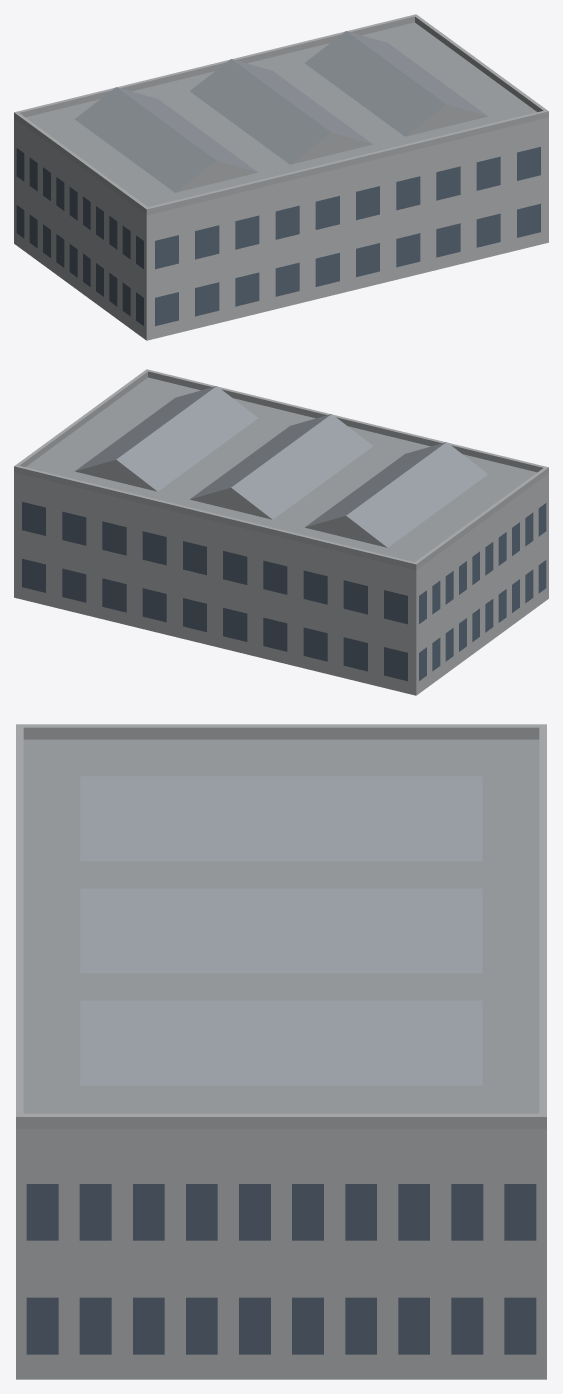
File: highrise_10_industrial_hall.glb
3 views of the same model, one above another, from view 1: azimuth 30°, elevation 25°; view 2: azimuth 150°, elevation 25°; view 3: azimuth 270°, elevation 25° (orthographic). The views are drawn at different scales.
Parts seen in each view (by area): view 1: highrise_10_industrial_hall; view 2: highrise_10_industrial_hall; view 3: highrise_10_industrial_hall.
Boxes of the visible parts, bbox=[...] form: highrise_10_industrial_hall: bbox=[14, 14, 548, 340]; highrise_10_industrial_hall: bbox=[14, 369, 548, 695]; highrise_10_industrial_hall: bbox=[16, 724, 546, 1379].
Size of the model in its own units: 42.03 by 14.7 by 24.03.
